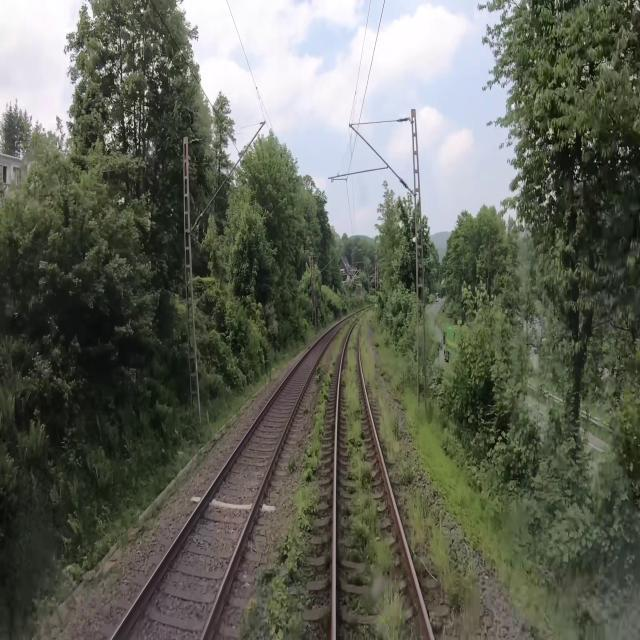Plant: (242, 357, 333, 639), (342, 323, 407, 639), (362, 316, 415, 484), (405, 484, 481, 601), (289, 457, 300, 474), (303, 402, 310, 417)
